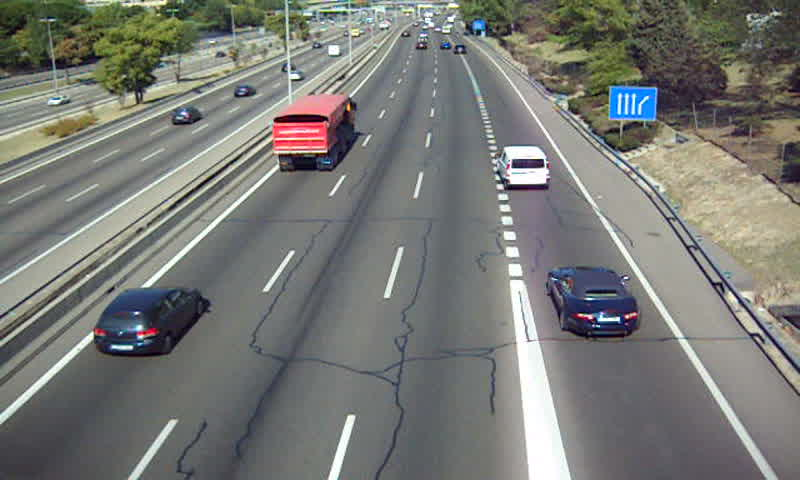car: (92, 286, 205, 358), (546, 268, 642, 337)
truck: (273, 95, 354, 171)
van: (497, 145, 550, 187)
